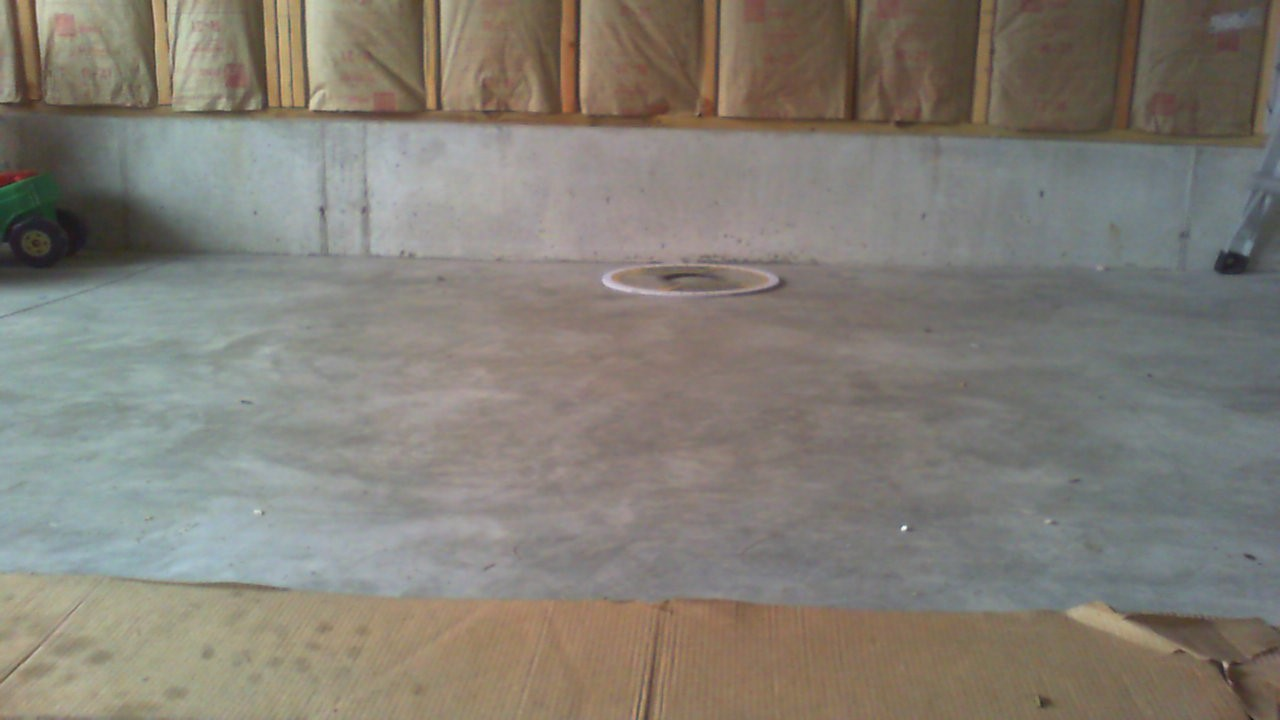Hatch: (603, 263, 780, 297)
